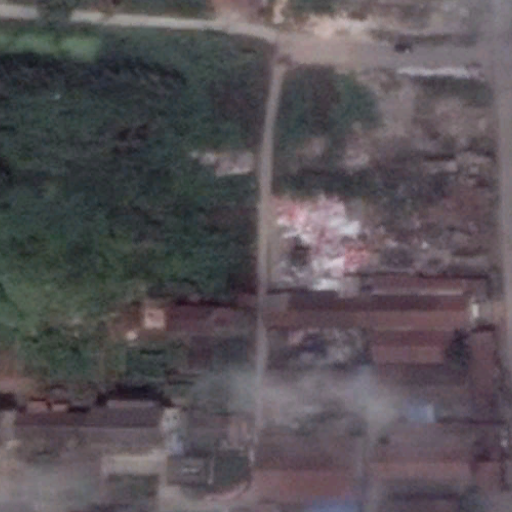msw: (276, 193, 368, 294)
